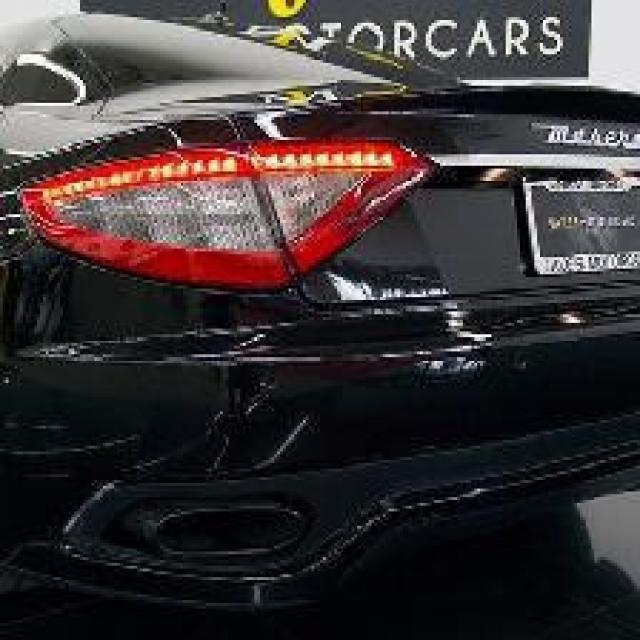damaged: (6, 372, 320, 479)
